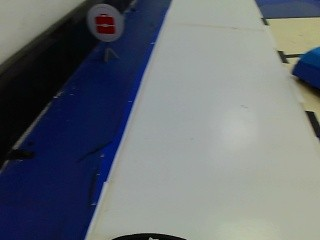company: (82, 4, 124, 44)
